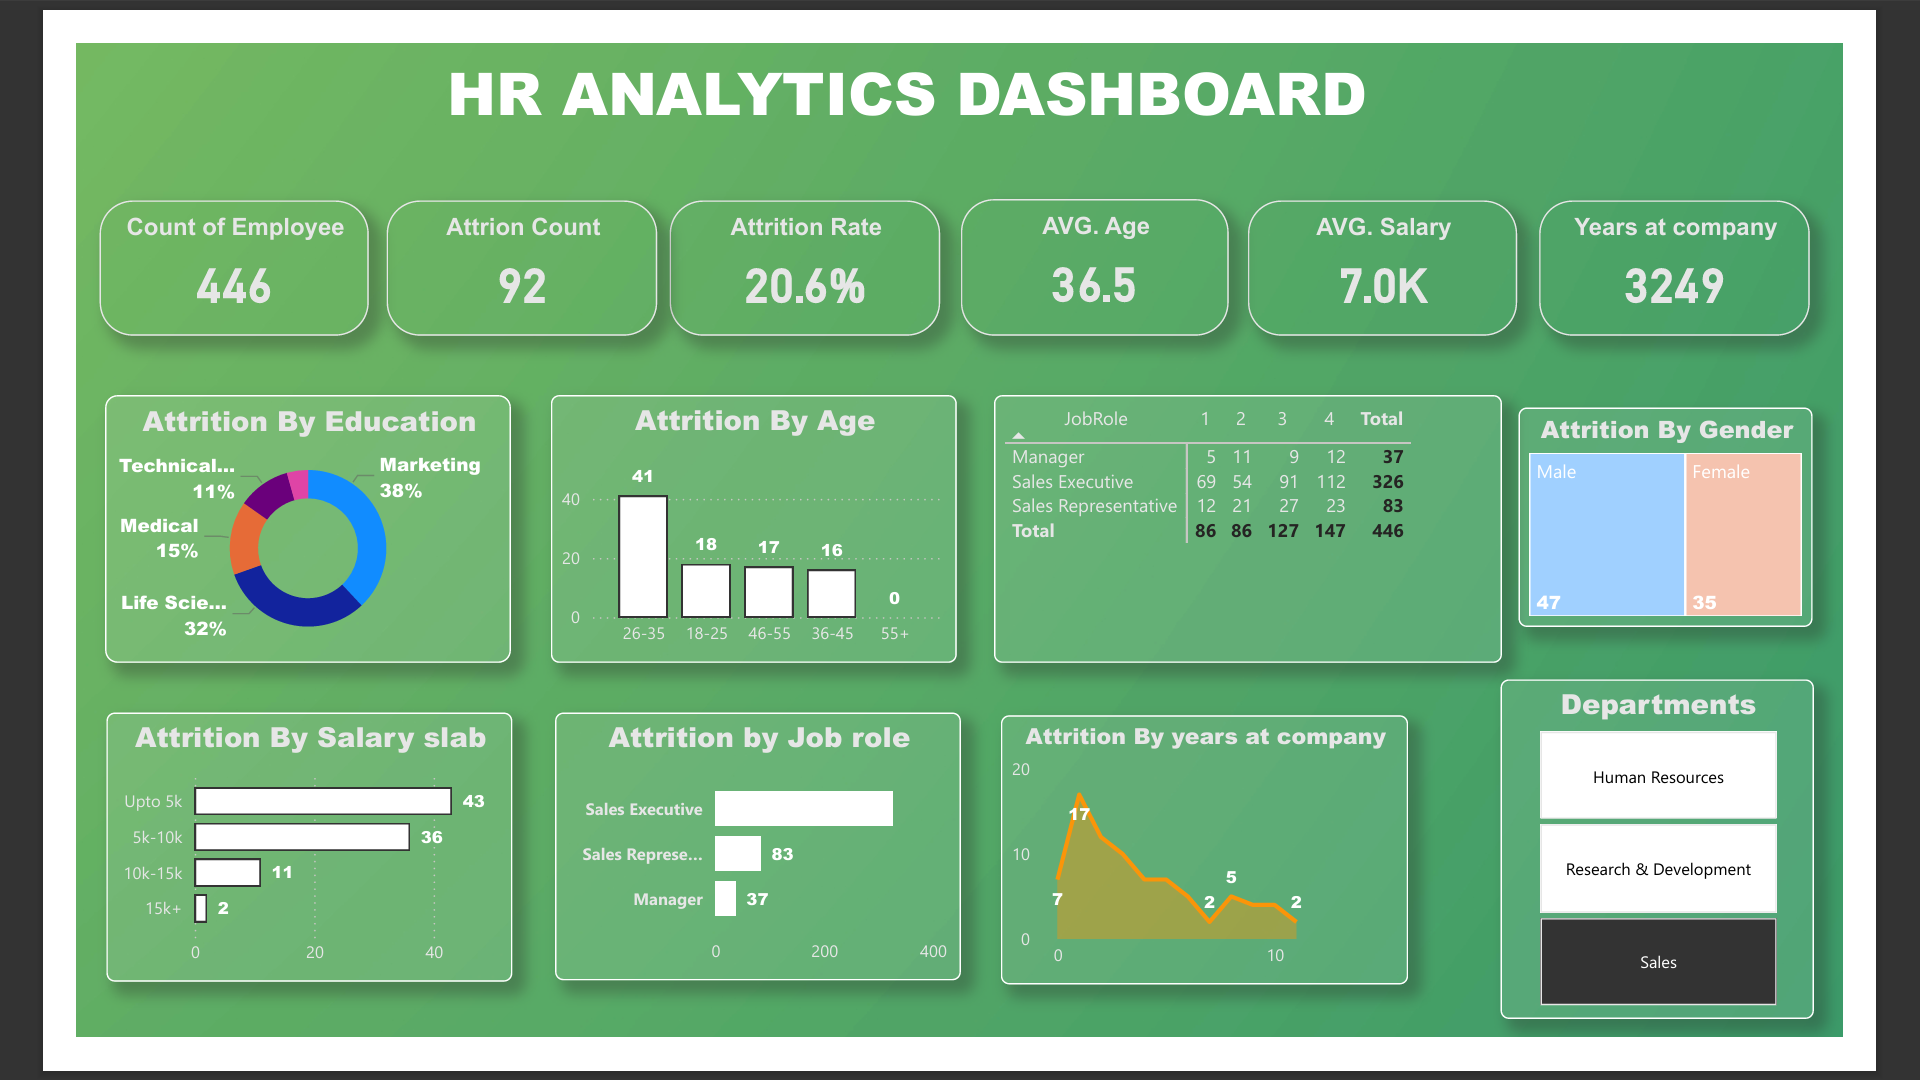

What the dashboard file says about the page in this screenshot:
{"tool":"powerbi","page":{"name":"Page 1","canvas":[1280,720],"ordinal":0},"visuals":[{"type":"card","title":"Count of Employee","fields":{"Values":["Count(HR_Analytics.EmpID)"]},"box":[16.7,113.6,195.6,98.6],"z":0},{"type":"card","title":"AVG. Salary","fields":{"Values":["Avg(HR_Analytics.MonthlyIncome)"]},"box":[848.6,113.6,195.6,98.6],"z":1000},{"type":"card","title":"AVG. Age","fields":{"Values":["Avg(HR_Analytics.Age)"]},"box":[640.6,113.4,194.6,98.3],"z":2000},{"type":"card","title":"Attrition Rate","fields":{"Values":["HR_Analytics.AttritionRate"]},"box":[430.2,113.6,195.6,98.6],"z":3000},{"type":"card","title":"Attrion Count","fields":{"Values":["Sum(HR_Analytics.att)"]},"box":[225,113.6,195.6,98.6],"z":4000},{"type":"card","title":"Years at company","fields":{"Values":["Sum(HR_Analytics.YearsAtCompany)"]},"box":[1060.1,113.6,195.6,98.6],"z":5000},{"type":"donutChart","title":"Attrition By Education","fields":{"Category":["HR_Analytics.EducationField"],"Y":["Sum(HR_Analytics.attritioncount)"]},"box":[21,255,294.3,194.1],"z":6000},{"type":"columnChart","title":"Attrition By Age","fields":{"Category":["HR_Analytics.AgeGroup"],"Y":["Sum(HR_Analytics.attritioncount)"]},"box":[343.9,255,294.3,194.1],"z":7000},{"type":"pivotTable","title":"Attrition By Age","fields":{"Rows":["HR_Analytics.JobRole"],"Columns":["HR_Analytics.JobSatisfaction"],"Values":["CountNonNull(HR_Analytics.attritioncount)"]},"box":[665.2,255,367.4,194.1],"z":8000},{"type":"barChart","title":"Attrition by Job role","fields":{"Category":["HR_Analytics.JobRole"],"Y":["CountNonNull(HR_Analytics.Attrition count)"]},"box":[346.8,485.1,294.3,194.1],"z":9000},{"type":"areaChart","title":"Attrition By years at company","fields":{"Category":["HR_Analytics.YearsAtCompany"],"Y":["Sum(HR_Analytics.attritioncount)"]},"box":[669.8,487.2,294.8,194.6],"z":10000},{"type":"barChart","title":"Attrition By Salary slab","fields":{"Category":["HR_Analytics.SalarySlab"],"Y":["Sum(HR_Analytics.attritioncount)"]},"box":[21.6,485.3,294.8,194.6],"z":11000},{"type":"treemap","title":"Attrition By Gender","fields":{"Group":["HR_Analytics.Gender"],"Values":["Sum(HR_Analytics.attritioncount)"]},"box":[1045,264,213.1,159.1],"z":12000},{"type":"slicer","title":"Departments","fields":{"Values":["HR_Analytics.Department"]},"box":[1031.8,461.1,226.8,245.7],"z":13000},{"type":"textbox","box":[100.2,0,1003.5,81.3],"z":14000}]}

Visuals, with their boxes in screenshot pixels (x1, y1, x2, y2), scaled from the page's 1280x720 canvas onto the 1920x1080 screenshot:
"Count of Employee" card: x1=25 y1=170 x2=318 y2=318
"AVG. Salary" card: x1=1273 y1=170 x2=1566 y2=318
"AVG. Age" card: x1=961 y1=170 x2=1253 y2=318
"Attrition Rate" card: x1=645 y1=170 x2=939 y2=318
"Attrion Count" card: x1=338 y1=170 x2=631 y2=318
"Years at company" card: x1=1590 y1=170 x2=1884 y2=318
"Attrition By Education" donutChart: x1=32 y1=382 x2=473 y2=674
"Attrition By Age" columnChart: x1=516 y1=382 x2=957 y2=674
"Attrition By Age" pivotTable: x1=998 y1=382 x2=1549 y2=674
"Attrition by Job role" barChart: x1=520 y1=728 x2=962 y2=1019
"Attrition By years at company" areaChart: x1=1005 y1=731 x2=1447 y2=1023
"Attrition By Salary slab" barChart: x1=32 y1=728 x2=475 y2=1020
"Attrition By Gender" treemap: x1=1568 y1=396 x2=1887 y2=635
"Departments" slicer: x1=1548 y1=692 x2=1888 y2=1060
textbox: x1=150 y1=0 x2=1656 y2=122
